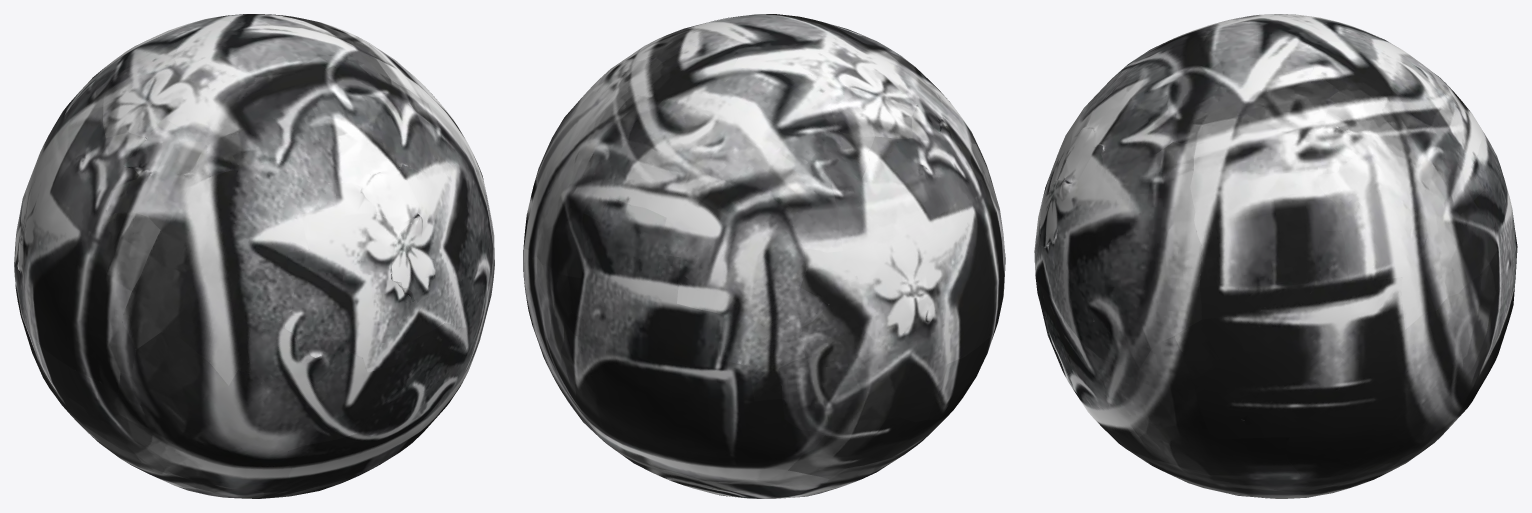
The model's file is ball-silver.glb.
3 renders of one model, left to right at view 1: azimuth 30°, elevation 25°; view 2: azimuth 150°, elevation 25°; view 3: azimuth 270°, elevation 25°, orthographic.
Visible parts, largest first — view 1: geometry_0; view 2: geometry_0; view 3: geometry_0.
Boxes of the visible parts, x1,y1,x2,y2 form: geometry_0: [14, 14, 494, 498]; geometry_0: [523, 14, 1005, 498]; geometry_0: [1034, 14, 1517, 498].
Size of the model in its own units: 0.06 by 0.0602 by 0.06.
Materials: 1 (1 with a texture image).
